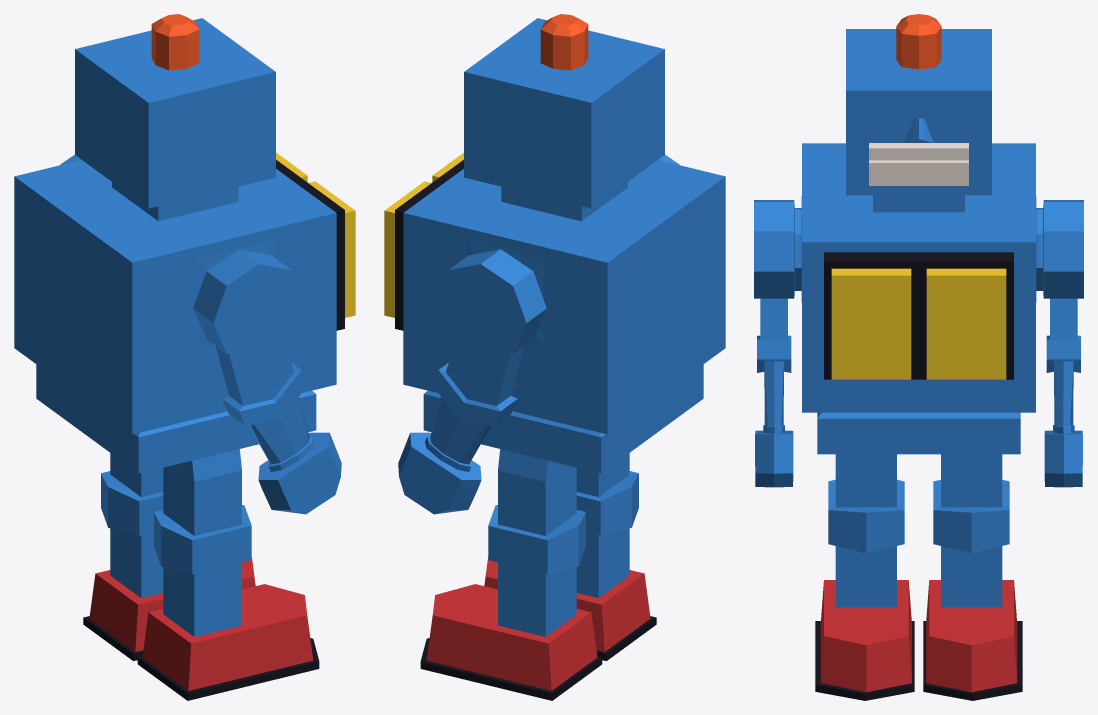
The model's file is robot.fbx.
3 renders of one model, left to right at view 1: azimuth 30°, elevation 25°; view 2: azimuth 150°, elevation 25°; view 3: azimuth 270°, elevation 25°, orthographic.
Parts seen in each view (by area): view 1: Cube.006; view 2: Cube.006; view 3: Cube.006.
Boxes of the visible parts, x1,y1,x2,y2 form: Cube.006: [14, 14, 355, 700]; Cube.006: [384, 14, 725, 700]; Cube.006: [754, 14, 1083, 700].
Size of the model in its own units: 181 by 461 by 219.
